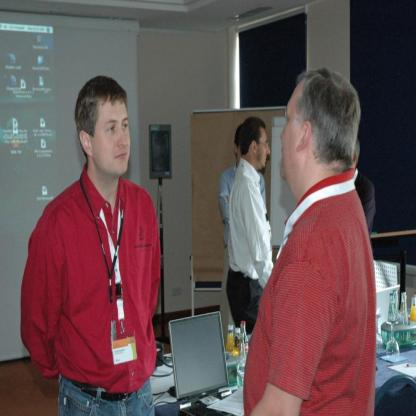board: (167, 309, 236, 415), (377, 283, 400, 333), (237, 332, 247, 386), (388, 292, 398, 324), (240, 320, 248, 358), (226, 324, 235, 353), (392, 288, 400, 320), (400, 292, 408, 324), (408, 295, 416, 324), (235, 327, 241, 357)
